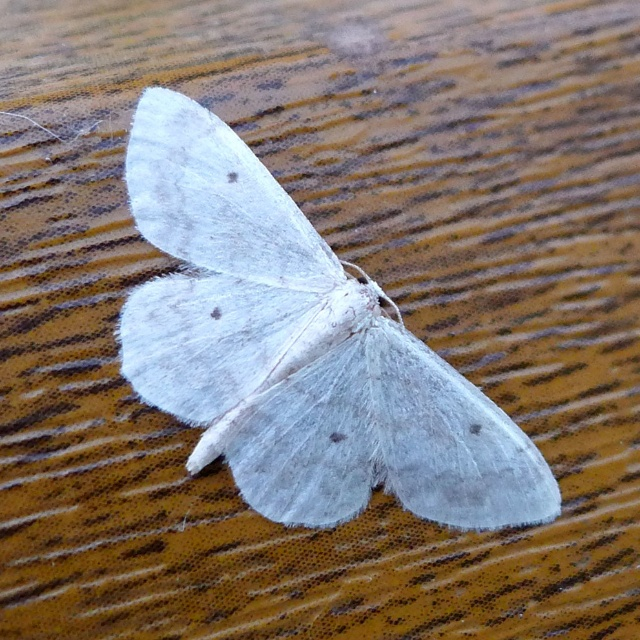Butterfly: (115, 88, 545, 538)
